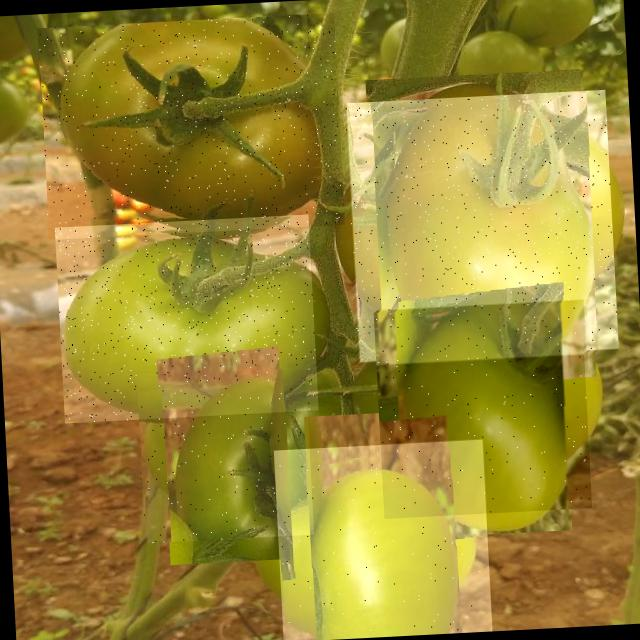Unripe Tomato: (344, 90, 618, 366), (37, 13, 345, 240), (54, 214, 318, 423), (374, 302, 592, 519), (273, 439, 492, 640), (136, 364, 314, 544)
